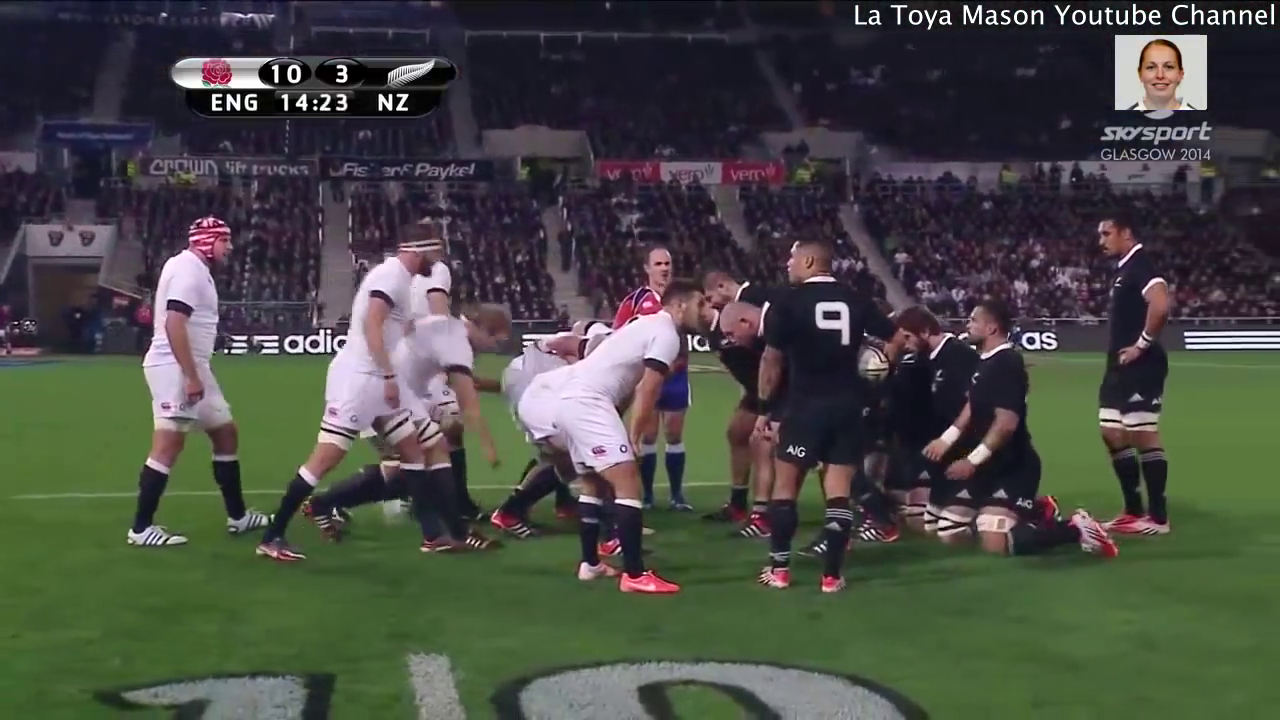ball: (849, 330, 896, 389)
player: (277, 209, 450, 561), (742, 229, 875, 618), (558, 286, 703, 633), (131, 206, 254, 551), (1074, 203, 1179, 544), (613, 238, 701, 461), (949, 298, 1043, 492), (889, 298, 963, 462), (386, 296, 515, 386)
